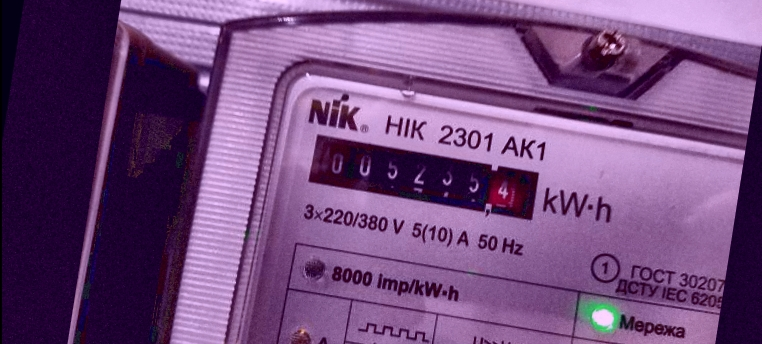0: (328, 148, 348, 176), (357, 150, 375, 177)
2: (411, 158, 429, 185)
3: (439, 160, 457, 187)
4: (495, 173, 514, 201)
5: (466, 165, 485, 194), (384, 154, 402, 182)
screen: (298, 123, 553, 229)
